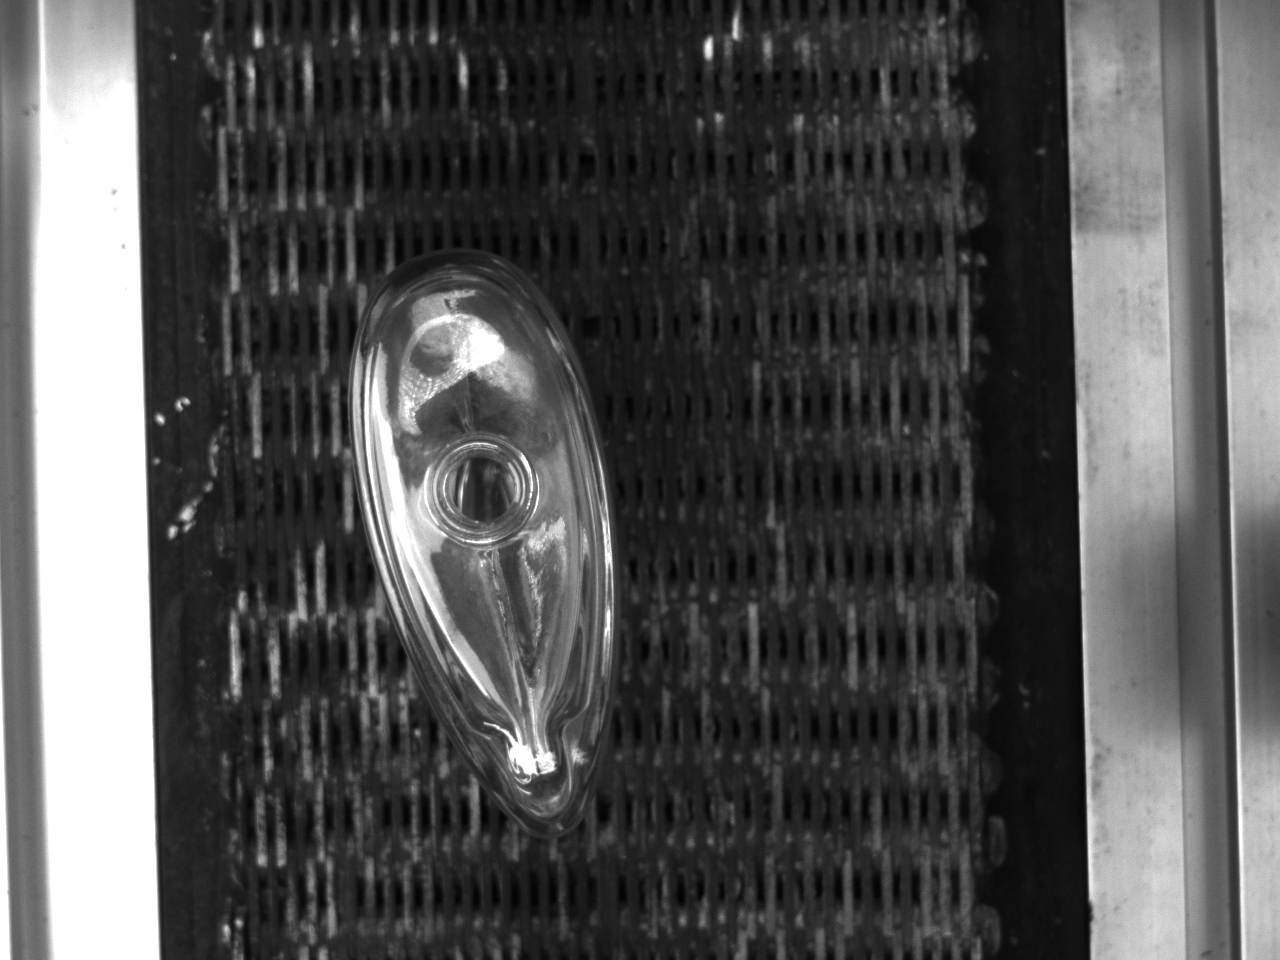bottleneck: (429, 436, 540, 544)
